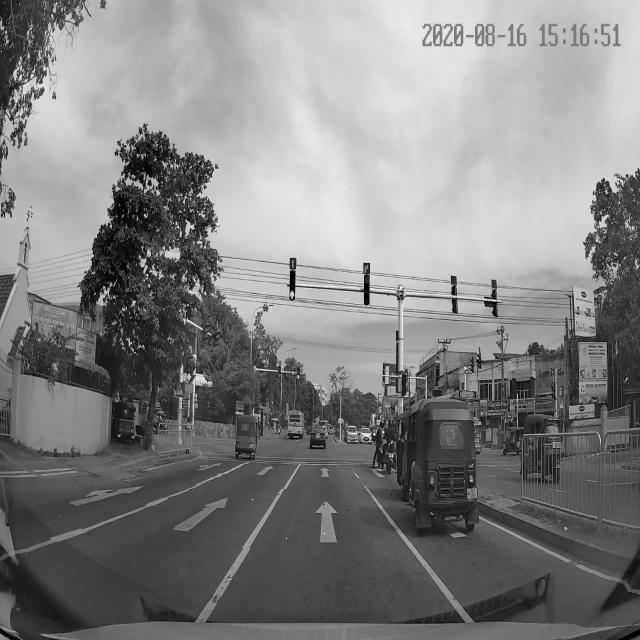forward: (241, 490, 411, 548), (289, 462, 360, 479)
